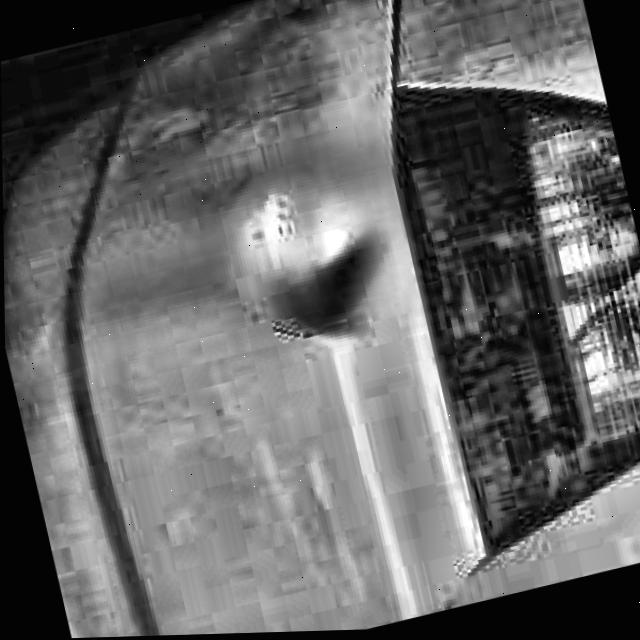bumper_dent: (211, 161, 387, 355)
